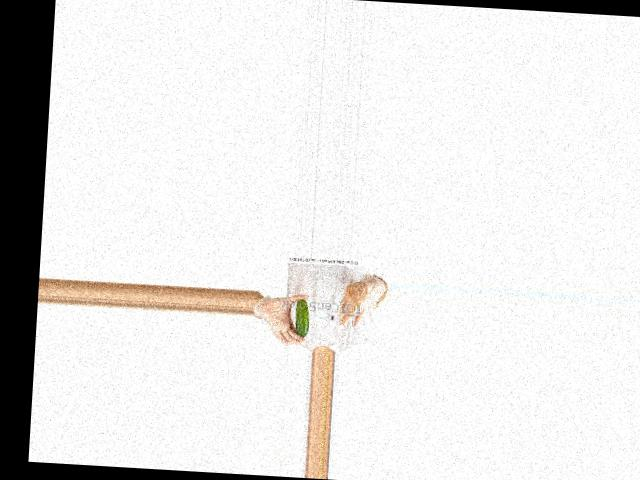cucumber: (293, 297, 309, 337)
